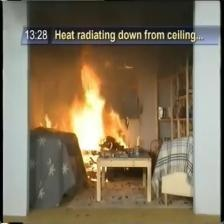fire: (60, 67, 116, 153)
smoke: (30, 1, 194, 27)
